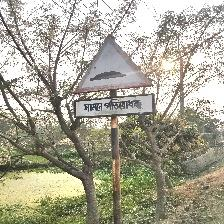Speed-breaker: (73, 34, 155, 120)
